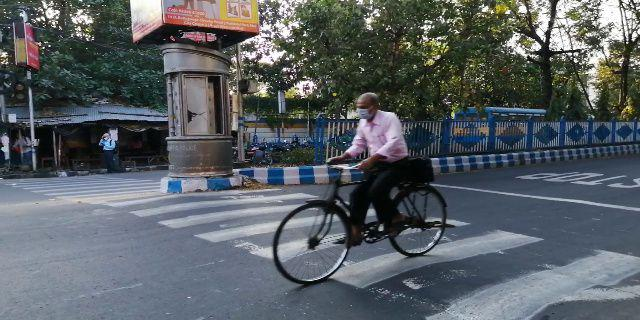Cycle: (260, 87, 454, 284)
